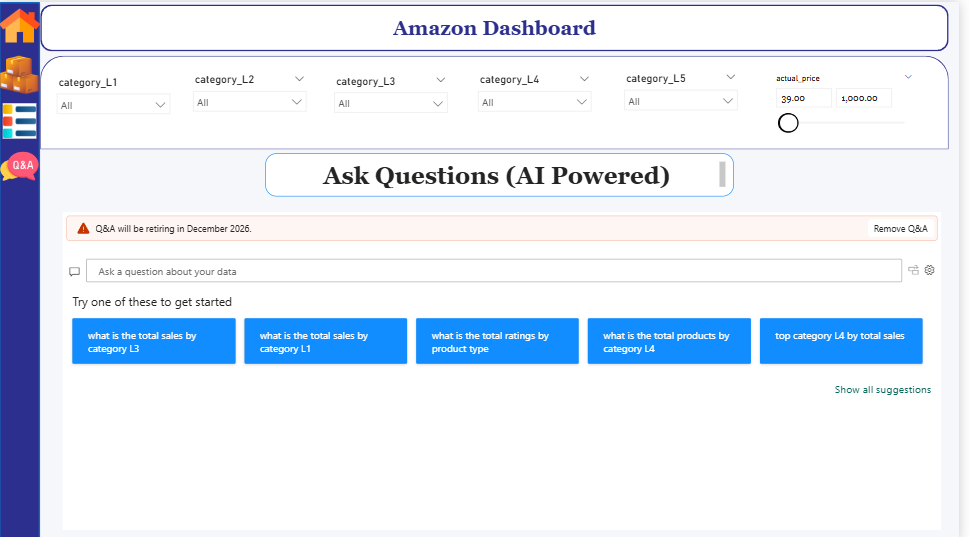

The dashboard page shown, as its layout file describes it:
{"tool":"powerbi","page":{"name":"Q&A","canvas":[1280,720],"ordinal":3},"visuals":[{"type":"shape","box":[0,0,55,720],"z":0},{"type":"shape","box":[55,71.5,1211.2,125],"z":0,"group":"g1"},{"type":"image","box":[0,0,55,62.5],"z":1000},{"type":"slicer","fields":{"Values":["fact_sales.category_L1"]},"box":[66.2,93.1,171.2,78.7],"z":1000,"group":"g1"},{"type":"image","box":[0,71.2,55,51.2],"z":2000},{"type":"slicer","fields":{"Values":["fact_sales.category_L2"]},"box":[247.5,90,171.2,89.5],"z":2000,"group":"g1"},{"type":"slicer","fields":{"Values":["fact_sales.category_L3"]},"box":[436.2,91.6,171.2,72.5],"z":3000,"group":"g1"},{"type":"image","box":[5,135,45,47.5],"z":3000},{"type":"slicer","fields":{"Values":["fact_sales.category_L4"]},"box":[628.8,90,171.2,74.1],"z":4000,"group":"g1"},{"type":"image","box":[0,193.8,55,51.2],"z":4000},{"type":"shape","box":[55,2.5,1211.2,62.5],"z":5000},{"type":"slicer","fields":{"Values":["fact_sales.category_L5"]},"box":[822.5,88.5,171.2,88],"z":5000,"group":"g1"},{"type":"group","id":"g1","title":"Group 1","box":[55,71.5,1211.2,188.1],"z":6000},{"type":"slicer","fields":{"Values":["fact_sales.actual_price"]},"box":[1023.8,89,206.2,96.2],"z":6000,"group":"g1"},{"type":"textbox","box":[355,202.1,625,57.5],"z":7000,"group":"g1"},{"type":"qnaVisual","box":[85,280,1171.2,423.8],"z":7000}]}

Visuals, with their boxes on the page's 1280x720 design canvas (x1, y1, x2, y2). These are canvas units, not pixel positions in the 970x537 screenshot, which may show the page scaled, cropped or inside an application window:
shape: pyautogui.locateOnScreen(0, 0, 55, 720)
shape: pyautogui.locateOnScreen(55, 72, 1266, 196)
image: pyautogui.locateOnScreen(0, 0, 55, 62)
slicer - fact_sales.category_L1: pyautogui.locateOnScreen(66, 93, 237, 172)
image: pyautogui.locateOnScreen(0, 71, 55, 122)
slicer - fact_sales.category_L2: pyautogui.locateOnScreen(248, 90, 419, 180)
slicer - fact_sales.category_L3: pyautogui.locateOnScreen(436, 92, 607, 164)
image: pyautogui.locateOnScreen(5, 135, 50, 182)
slicer - fact_sales.category_L4: pyautogui.locateOnScreen(629, 90, 800, 164)
image: pyautogui.locateOnScreen(0, 194, 55, 245)
shape: pyautogui.locateOnScreen(55, 2, 1266, 65)
slicer - fact_sales.category_L5: pyautogui.locateOnScreen(822, 88, 994, 176)
"Group 1" group: pyautogui.locateOnScreen(55, 72, 1266, 260)
slicer - fact_sales.actual_price: pyautogui.locateOnScreen(1024, 89, 1230, 185)
textbox: pyautogui.locateOnScreen(355, 202, 980, 260)
qnaVisual: pyautogui.locateOnScreen(85, 280, 1256, 704)
